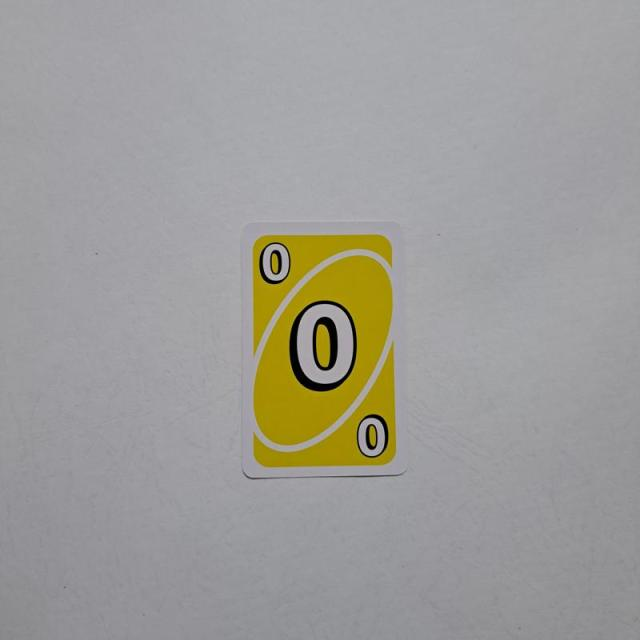Number_0: (255, 239, 294, 288)
Yellow_Card: (246, 223, 404, 475)
